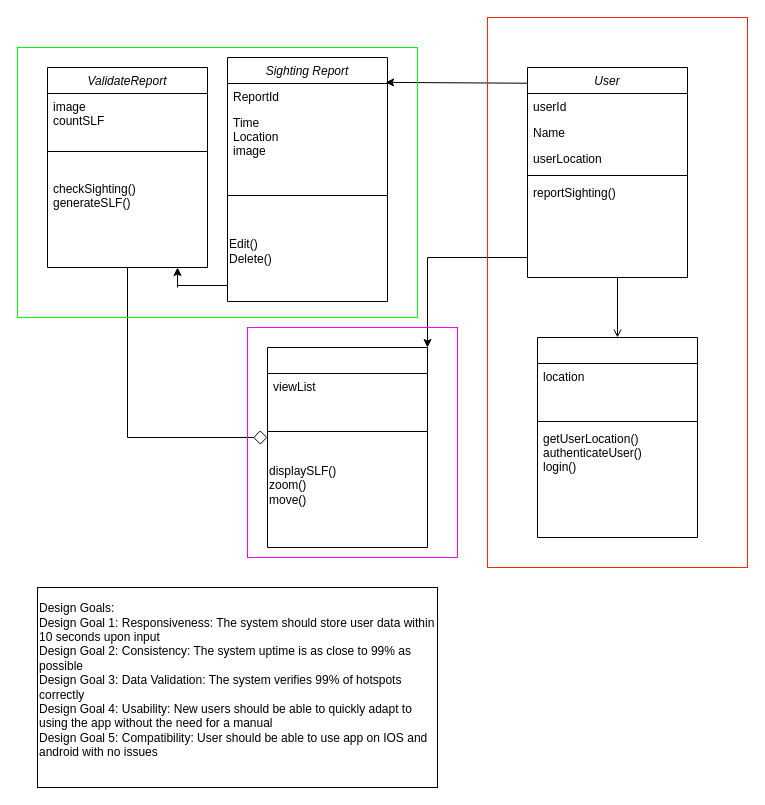
Image size: 765x805. Some labels were removed from this diagram. The shapes that lost their labels are listed below. From the top down, each one's box as (x1, y1, x2, y2) in pixels, then its label:
(266, 346, 428, 548): SLF Map
(536, 336, 698, 538): Authenticater
